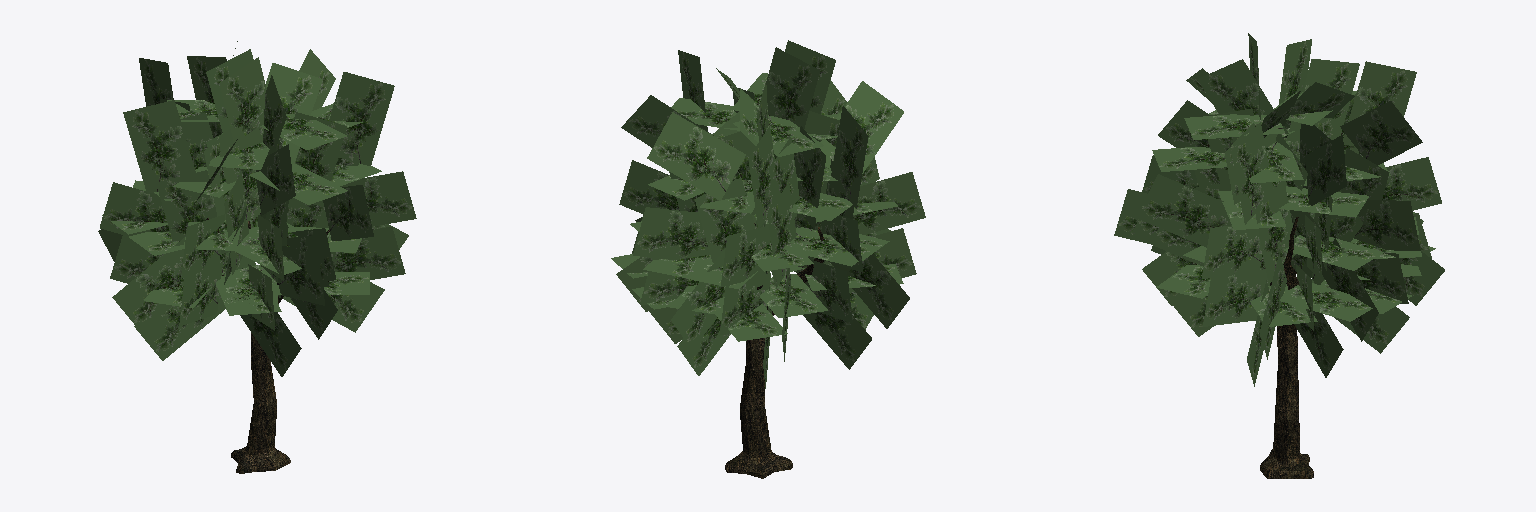
The picture shows the model from 3 angles: view 1: azimuth 30°, elevation 25°; view 2: azimuth 150°, elevation 25°; view 3: azimuth 270°, elevation 25°; orthographic projection.
Parts seen in each view (by area): view 1: Branch054.001, Trunk.001; view 2: Branch054.001, Trunk.001; view 3: Branch054.001, Trunk.001.
Part boxes in pixels (bbox=[...]): Branch054.001: bbox=[98, 41, 416, 376]; Trunk.001: bbox=[206, 218, 329, 473]; Branch054.001: bbox=[611, 40, 925, 388]; Trunk.001: bbox=[725, 223, 824, 478]; Branch054.001: bbox=[1114, 33, 1444, 386]; Trunk.001: bbox=[1260, 213, 1313, 478].
Bounding box in the file's own units: 0.7306 × 1.02 × 0.7331.
Materials: 2 (2 with a texture image).